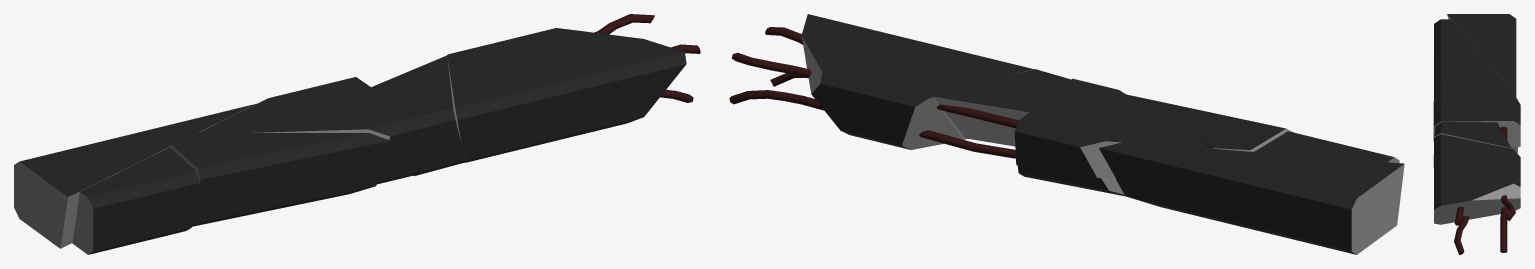
File: P_PoutreCassé1.fbx
3 renders of one model, left to right at view 1: azimuth 30°, elevation 25°; view 2: azimuth 150°, elevation 25°; view 3: azimuth 270°, elevation 25°, orthographic. The views are drawn at different scales.
Parts seen in each view (by area): view 1: P_PoutreCassé1; view 2: P_PoutreCassé1; view 3: P_PoutreCassé1.
Part boxes in pixels (x1,y1,x2,y2): P_PoutreCassé1: [14, 14, 700, 254]; P_PoutreCassé1: [729, 14, 1404, 254]; P_PoutreCassé1: [1433, 14, 1520, 254].
Size of the model in its own units: 428 by 44.45 by 78.48.
